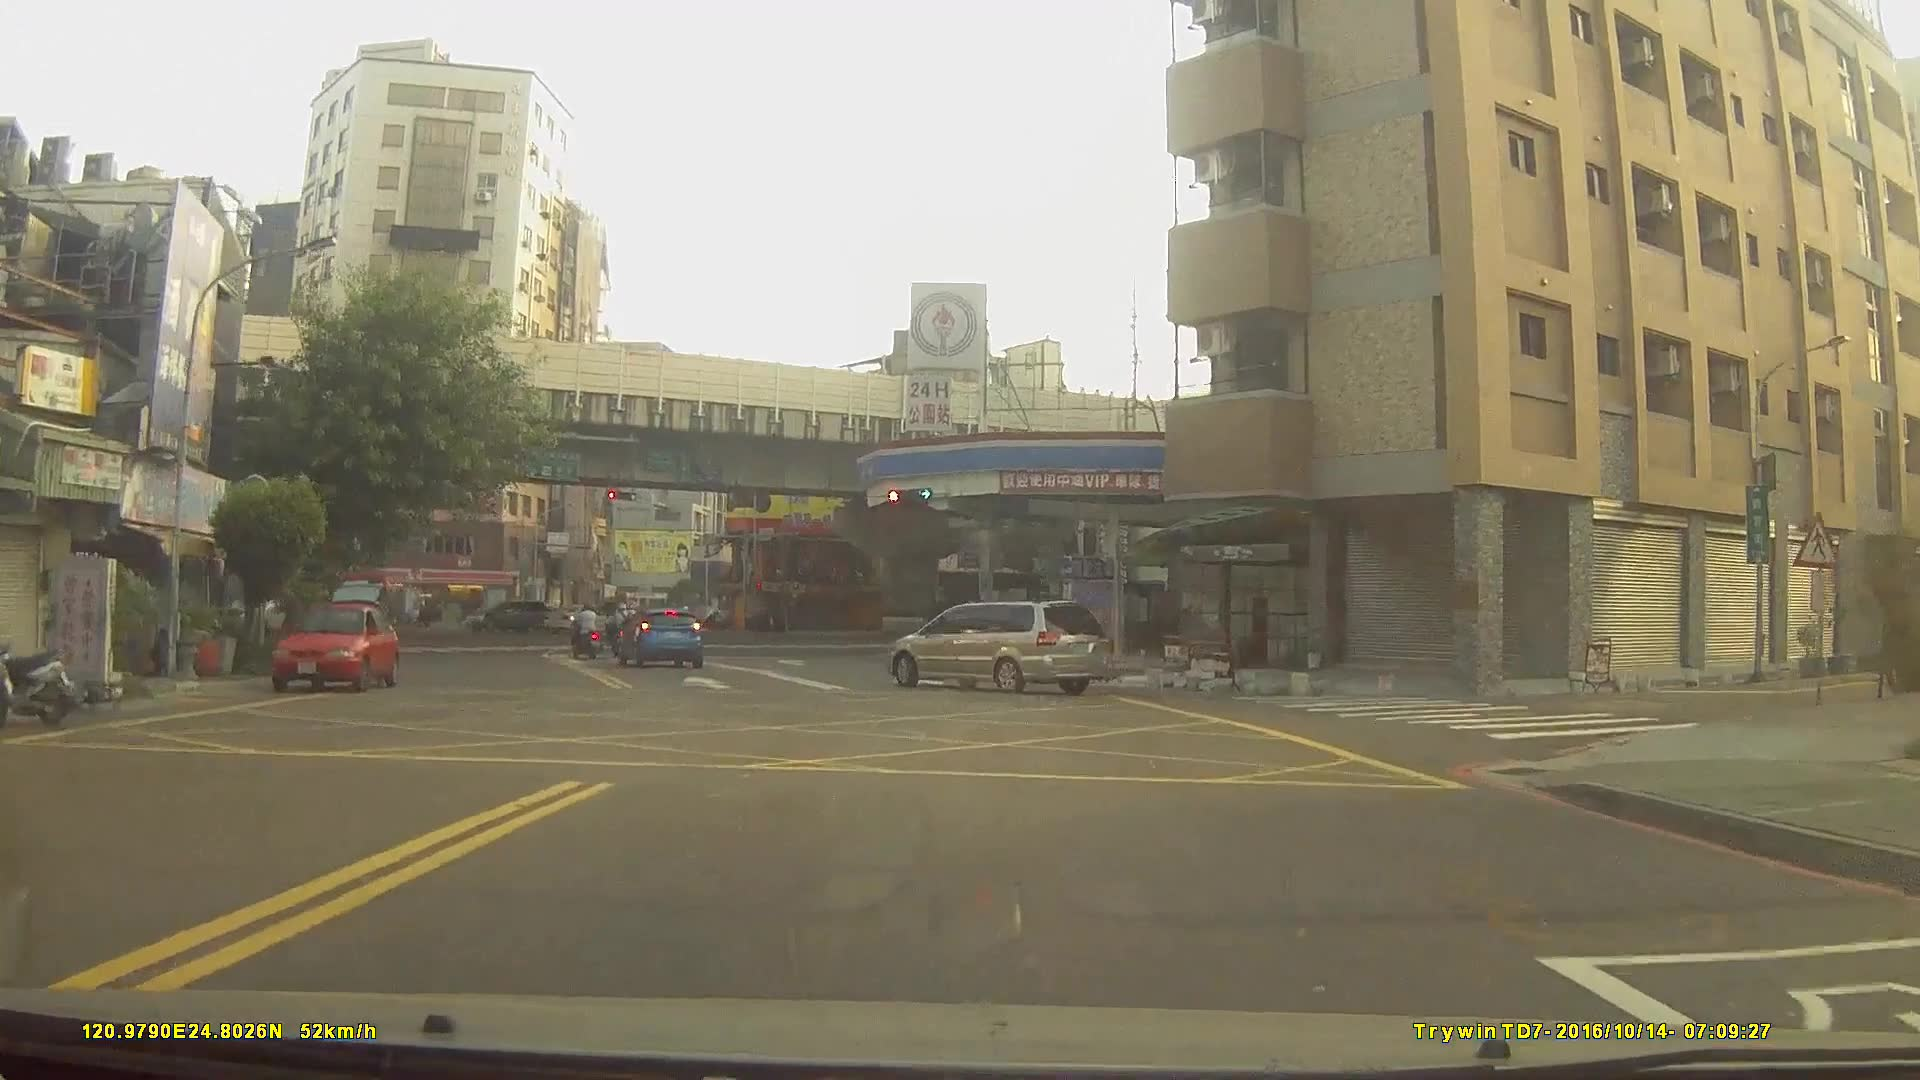rider: (568, 601, 600, 661)
vehicle: (886, 601, 1109, 696), (267, 601, 400, 695), (611, 607, 704, 670), (463, 598, 551, 633), (542, 604, 620, 636)
